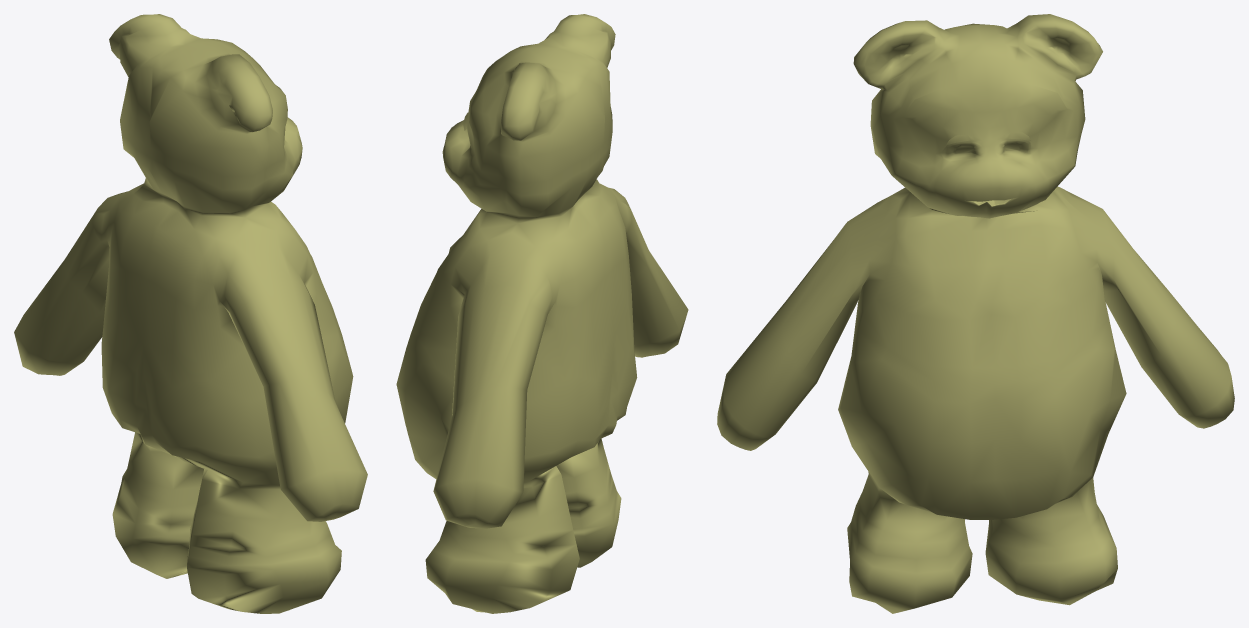
File: Teddyfbx.fbx
3 views of the same model, side by side, from view 1: azimuth 30°, elevation 25°; view 2: azimuth 150°, elevation 25°; view 3: azimuth 270°, elevation 25° (orthographic). The views are drawn at different scales.
Visible parts, largest first — view 1: teddyretopo:Mesh; view 2: teddyretopo:Mesh; view 3: teddyretopo:Mesh.
Part boxes in pixels (left/top/right/bottom): teddyretopo:Mesh: left=14, top=14, right=367, bottom=613; teddyretopo:Mesh: left=396, top=14, right=688, bottom=613; teddyretopo:Mesh: left=717, top=14, right=1234, bottom=613.
Bounding box in the file's own units: 1.64 × 4.25 × 3.51.
